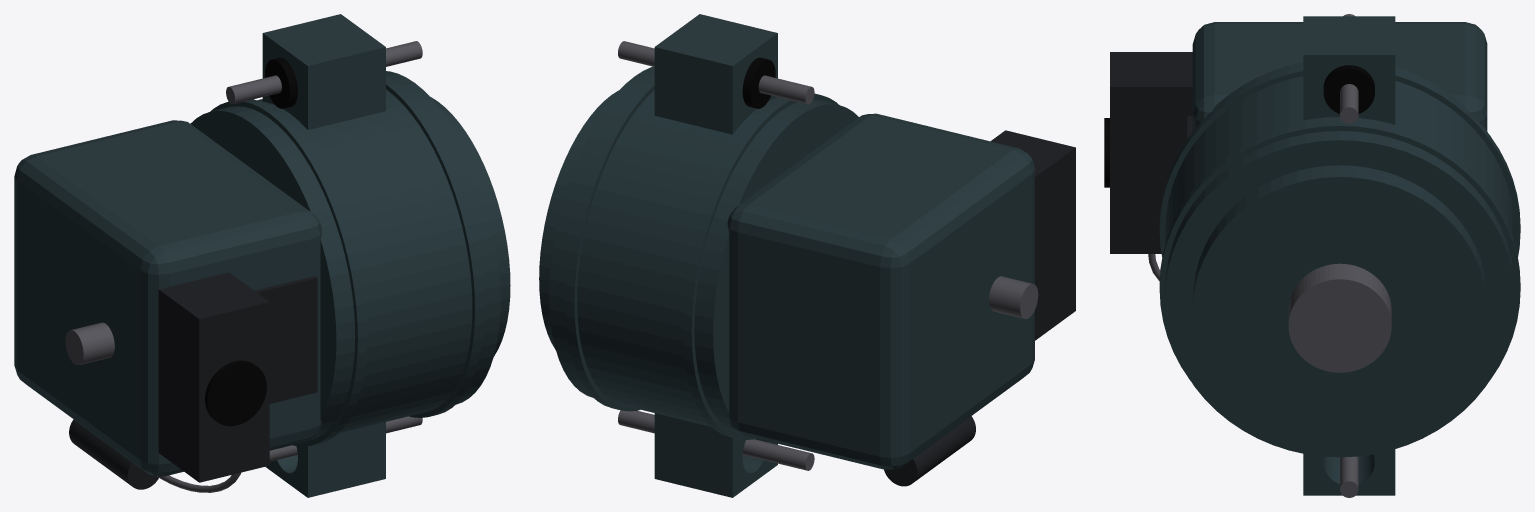
Rendered from gearbox.obj.
The picture shows the model from 3 angles, left to right: view 1: azimuth 30°, elevation 25°; view 2: azimuth 150°, elevation 25°; view 3: azimuth 270°, elevation 25°; orthographic projection. The views are drawn at different scales.
Visible parts, largest first — view 1: gearbox; view 2: gearbox; view 3: gearbox.
Part boxes in pixels (bbox=[...]): gearbox: bbox=[14, 14, 510, 497]; gearbox: bbox=[539, 14, 1075, 497]; gearbox: bbox=[1104, 14, 1520, 497].
Size of the model in its own units: 2.7 by 2.64 by 2.26.
